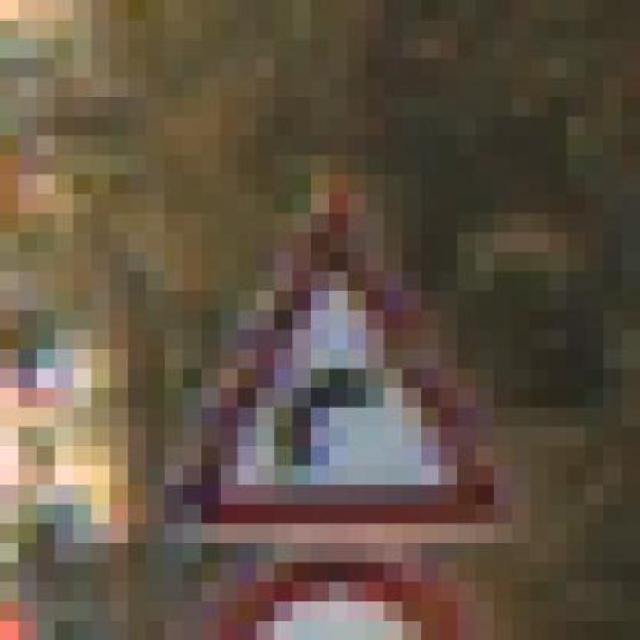Dangerous Rright Curve Ahead: (128, 135, 512, 543)
